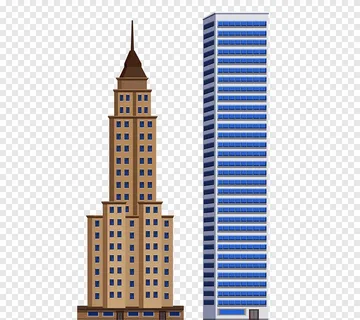high_rise_building: (81, 16, 186, 317), (194, 7, 275, 316)
